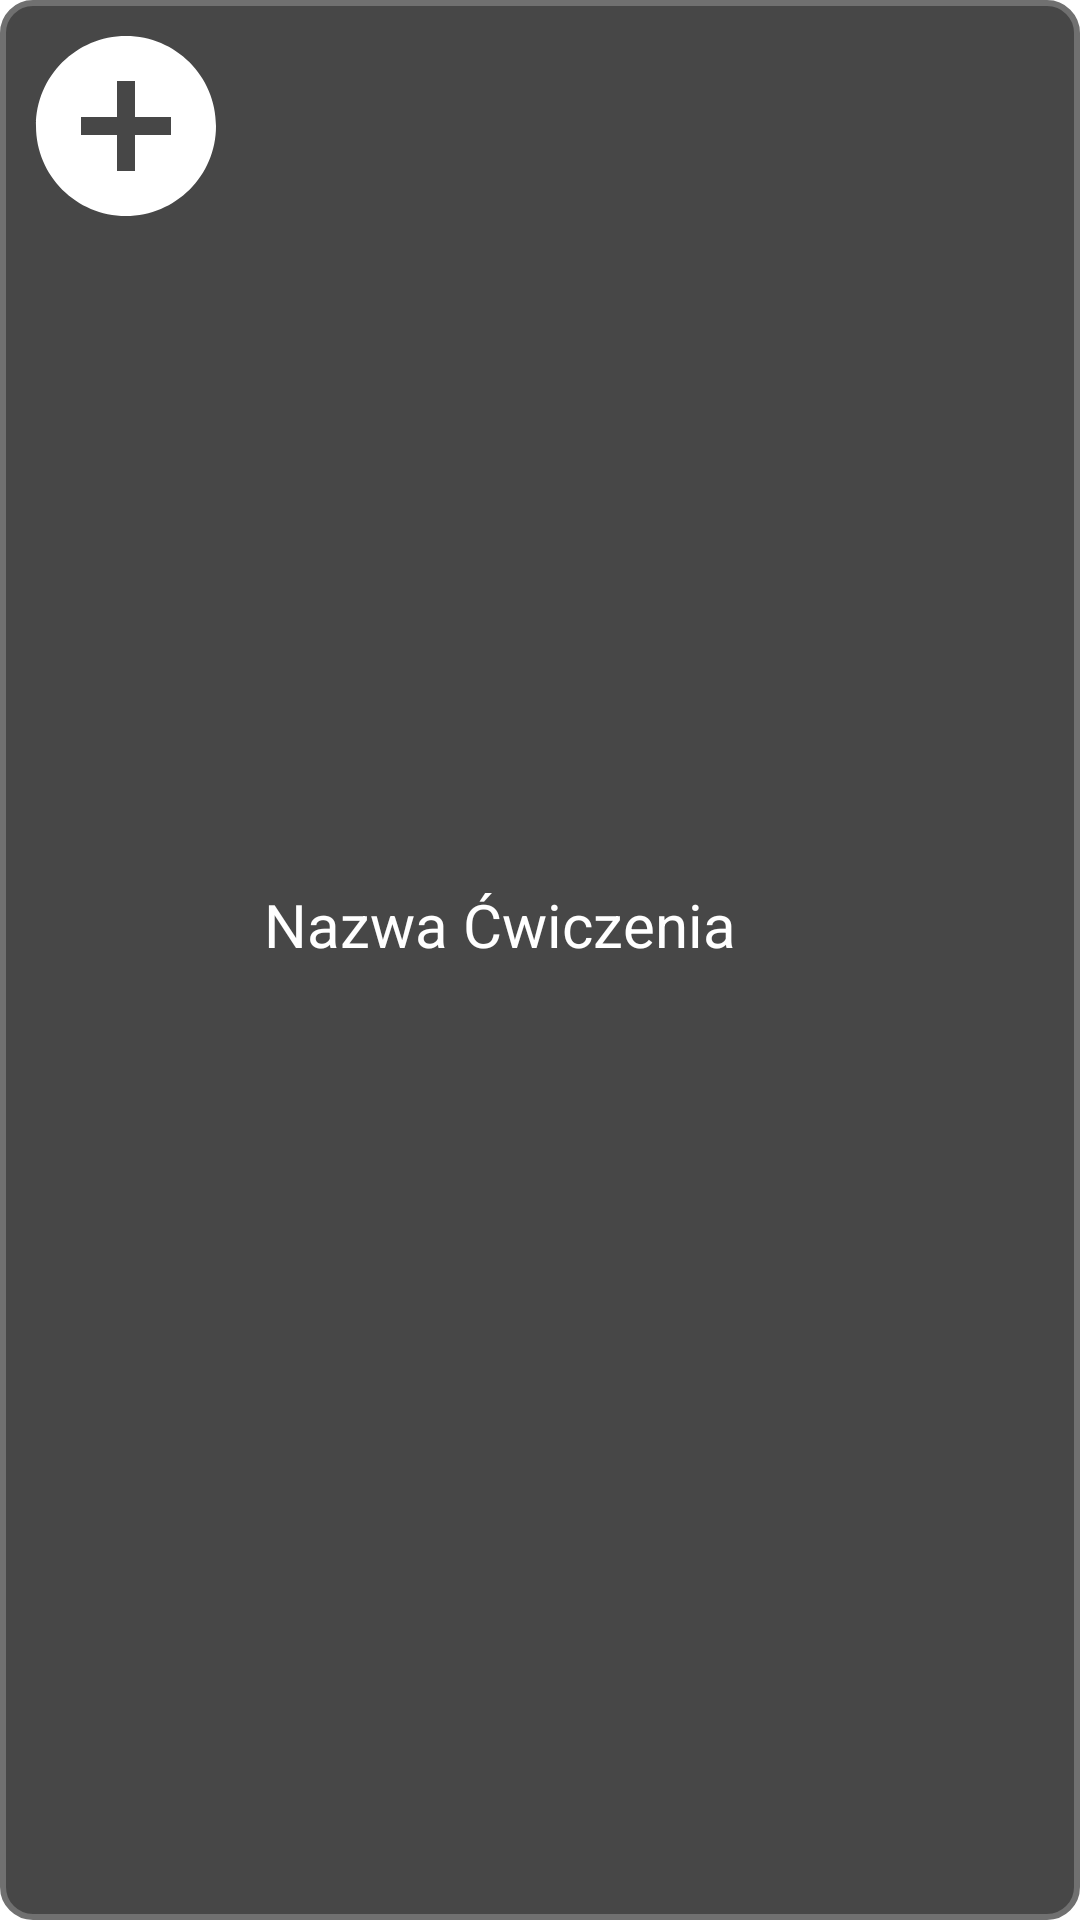

Screen size 1080×1920. Icon name, then its center in pixels as point (x, y):
add circle: point (126, 126)
